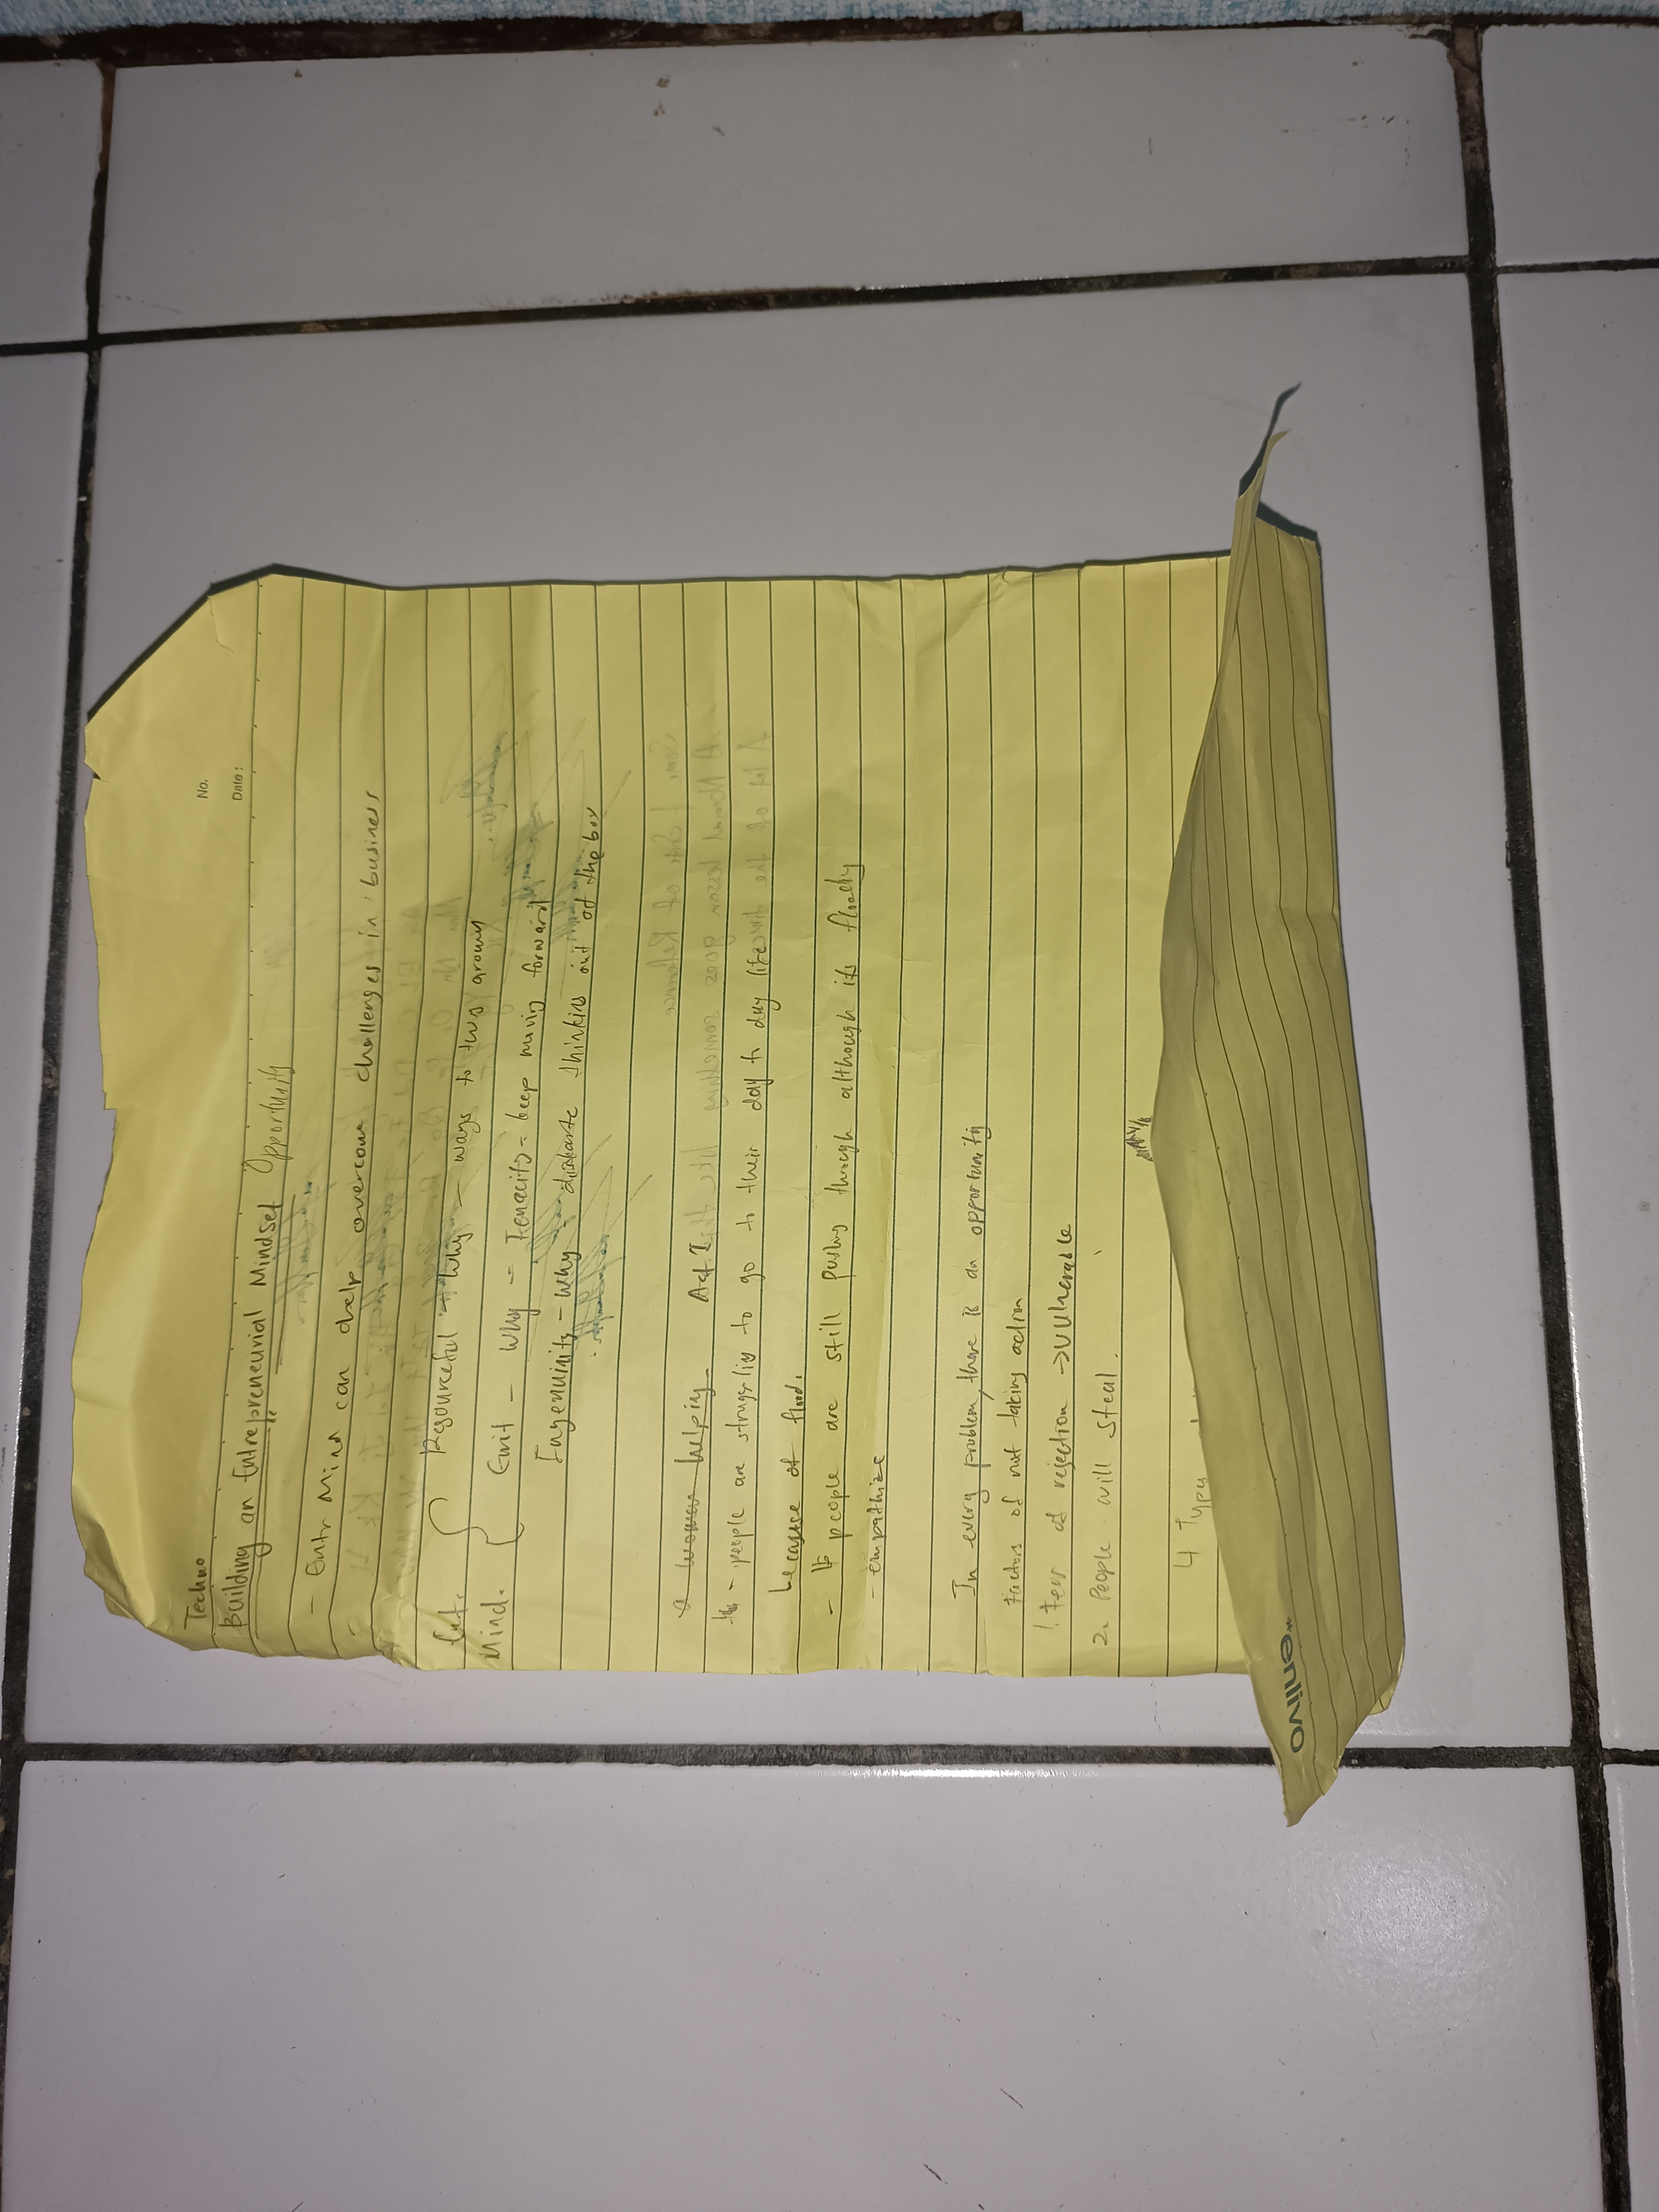Paper: (110, 482, 1534, 1759)
